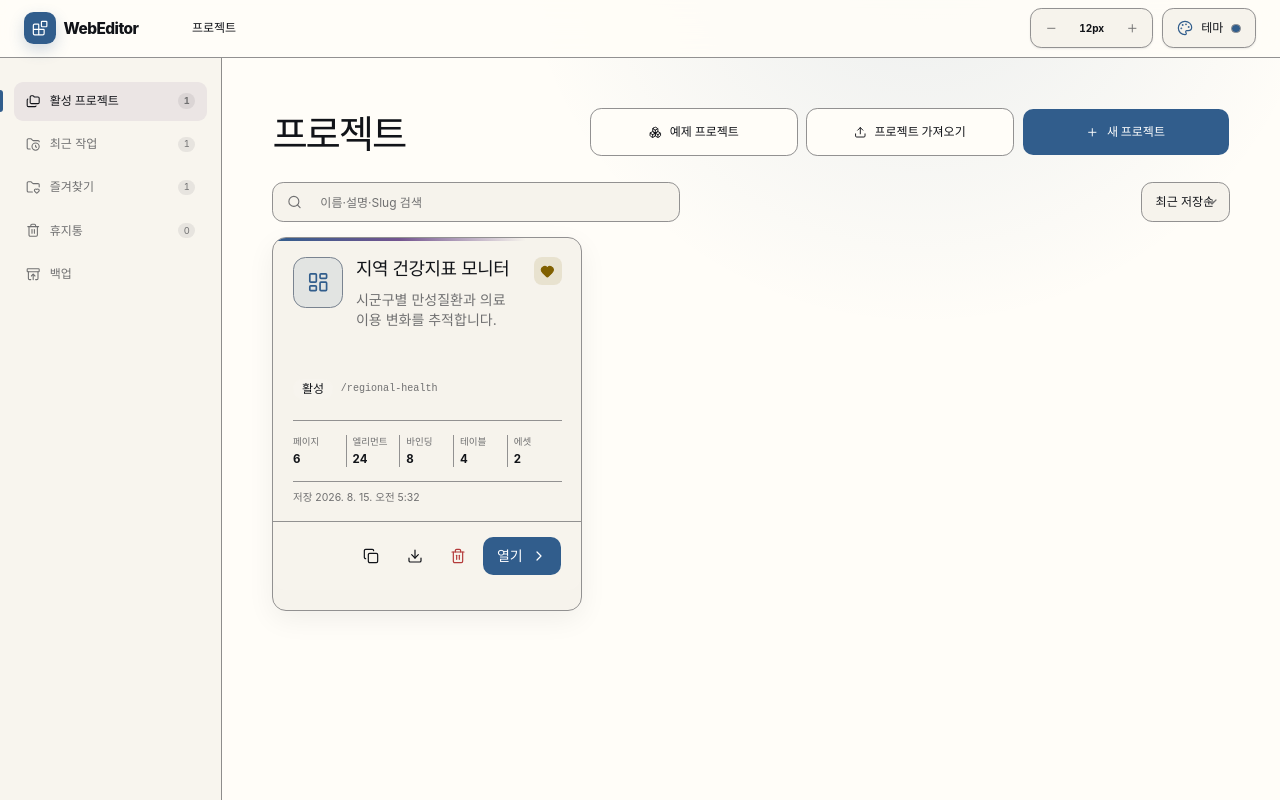
Test: WebEditor persistent project home › expands the relationship canvas and only shows edge details after selection
Check: the heading "지역 건강지표 모니터" is shown, box [356, 257, 521, 282]
Click the button "열기" at (522, 556), box [482, 536, 562, 576]
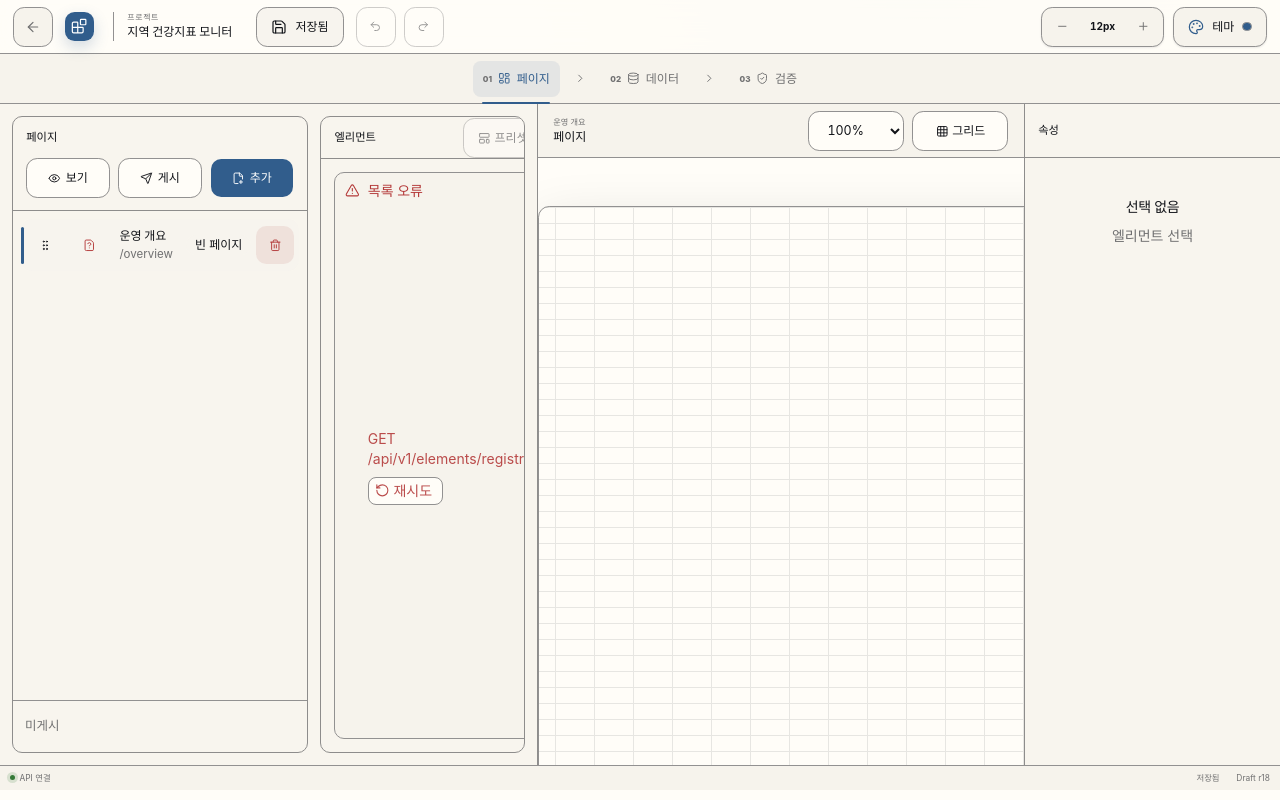
Click the button "02 데이터" at (645, 79), box [600, 61, 689, 97]
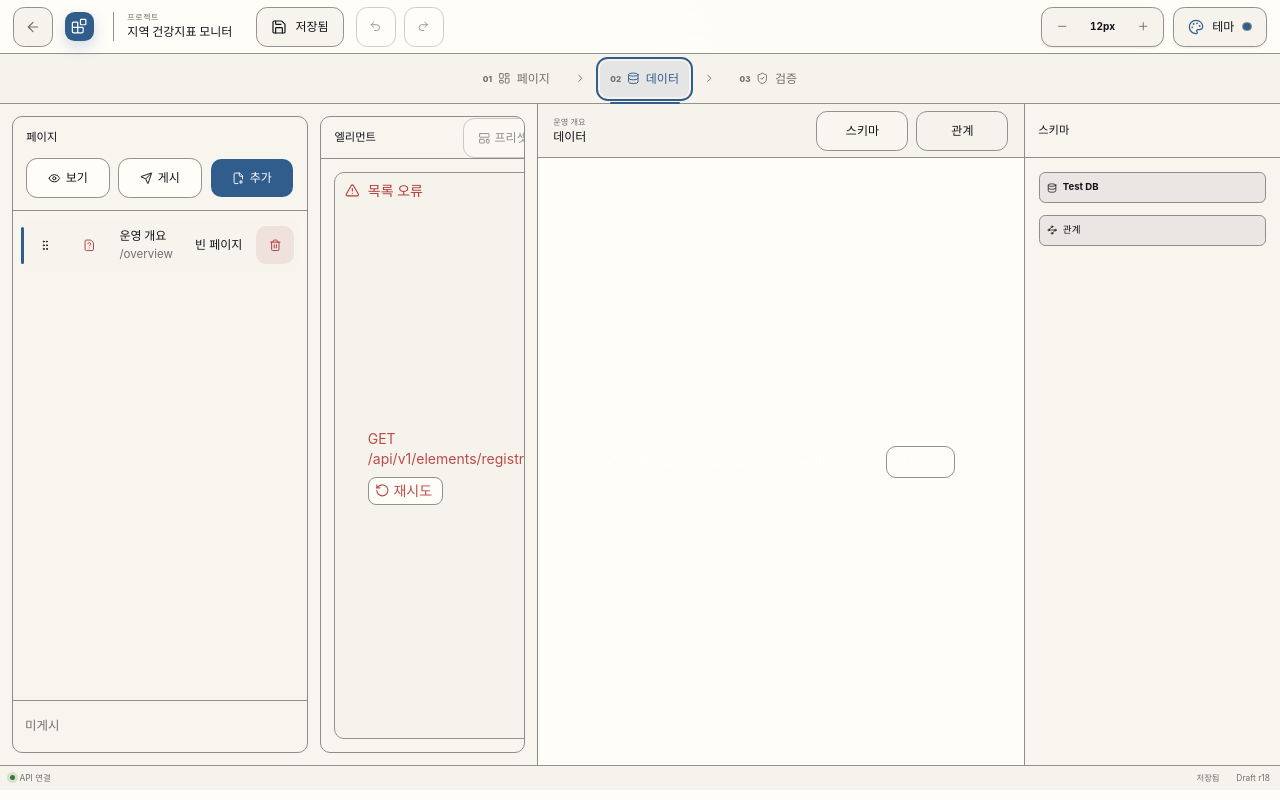
Click the radio button labelled "관계" at (962, 131), box [916, 111, 1008, 151]
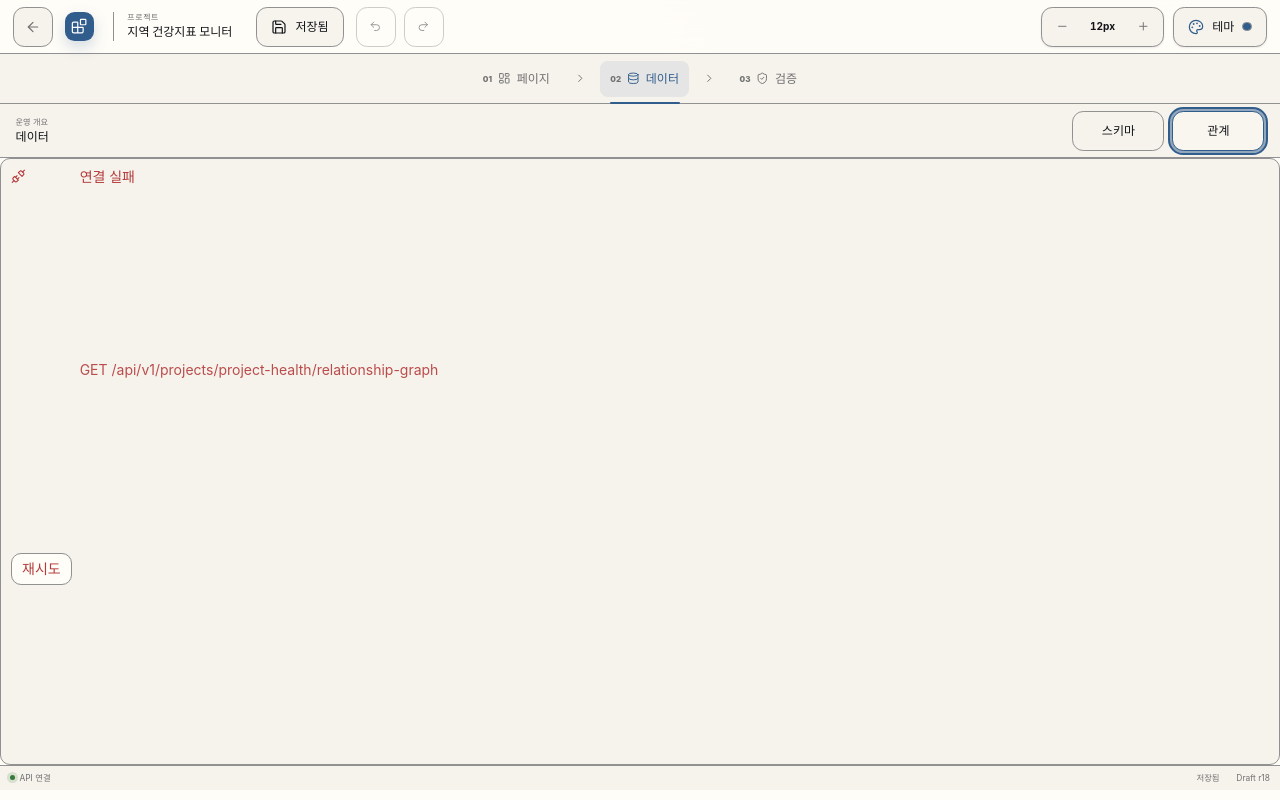
Check: the element with class "editor-left-panel" is gone
Check: the element with class "inspector-panel" is gone
